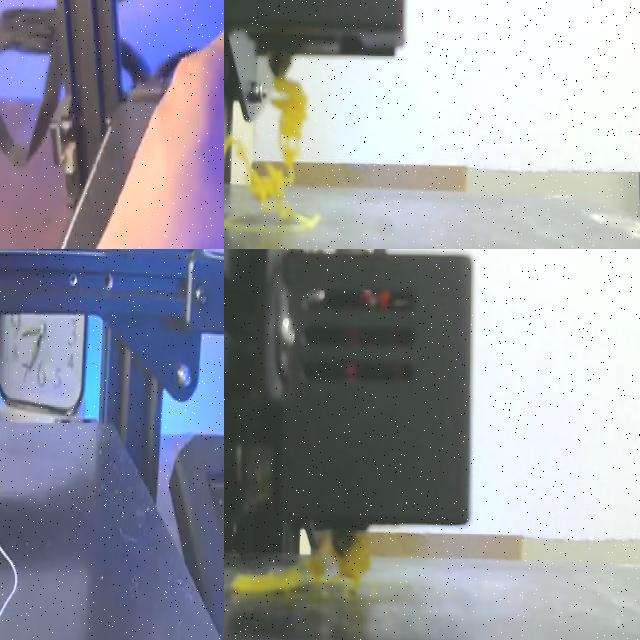spaghetti: (224, 63, 320, 230), (232, 532, 370, 595)
